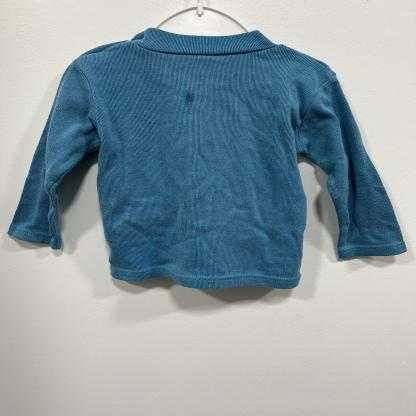stain: (180, 89, 199, 110)
